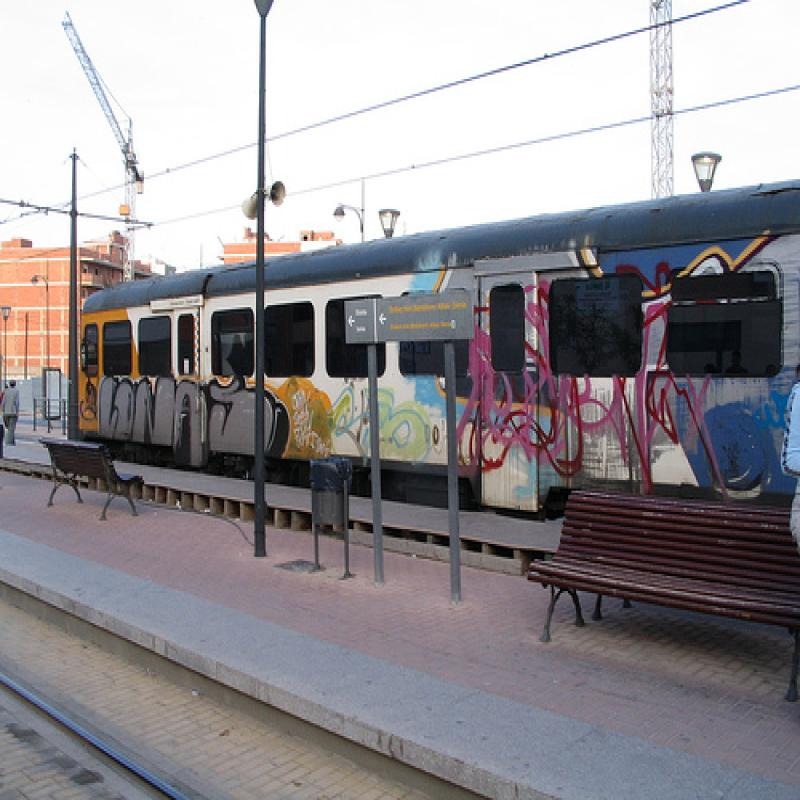train: (73, 174, 799, 519)
